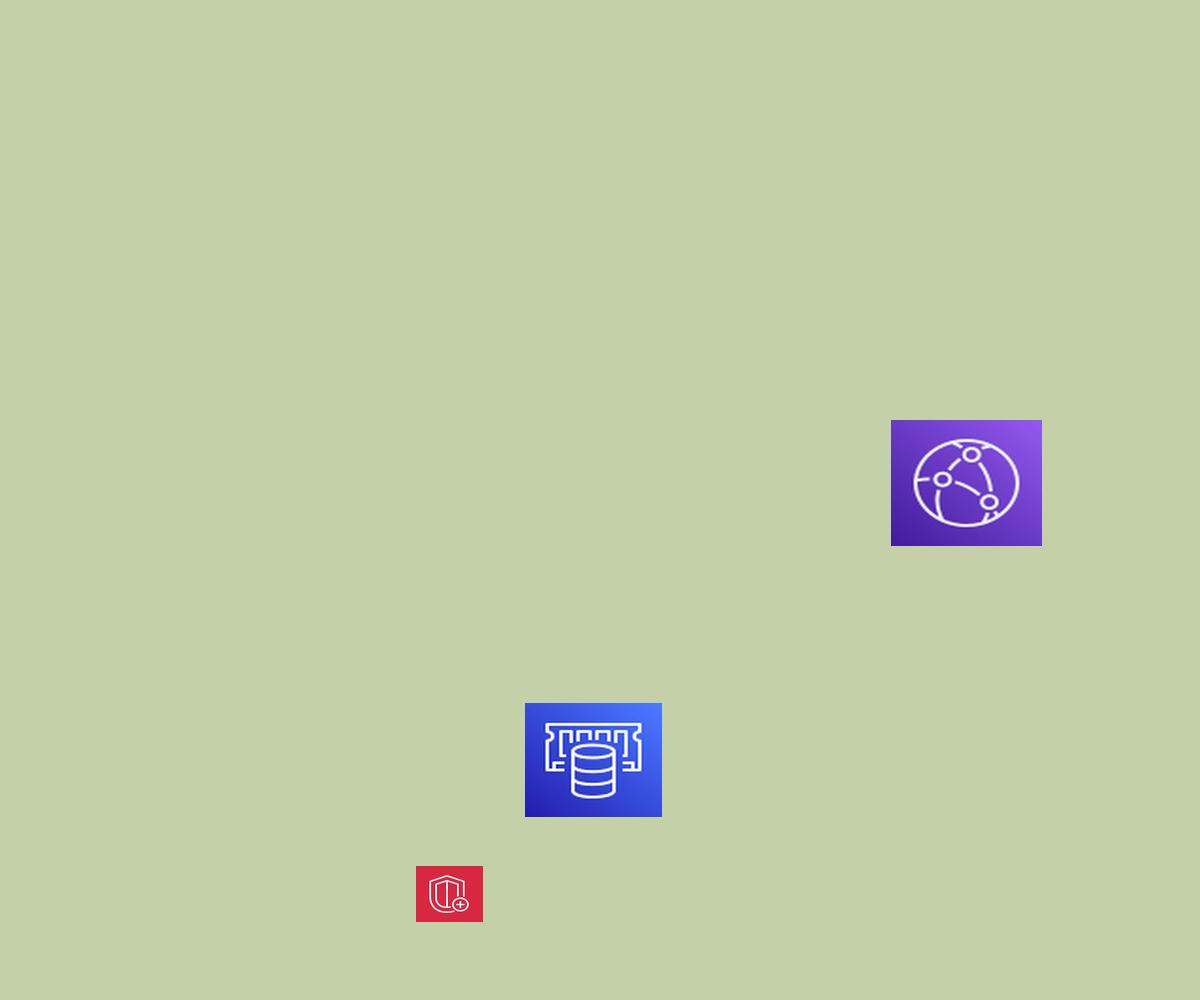AWS-CloudFront: (891, 420, 1042, 546)
AWS-ElastiCache: (525, 703, 662, 817)
AWS-Shield: (416, 866, 483, 922)
